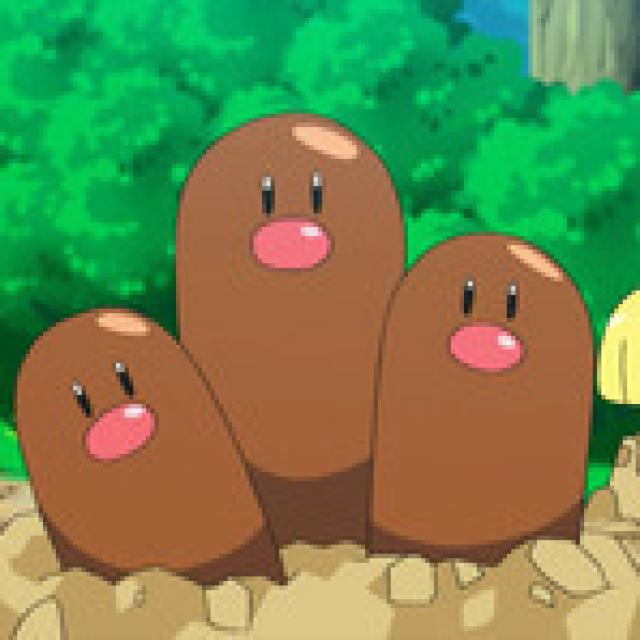Dugtrio: (17, 114, 580, 585)
